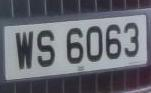0: (85, 20, 105, 67)
3: (124, 18, 141, 65)
6: (64, 22, 86, 70), (104, 20, 125, 65)
S: (34, 25, 58, 74)
W: (10, 27, 36, 75)
